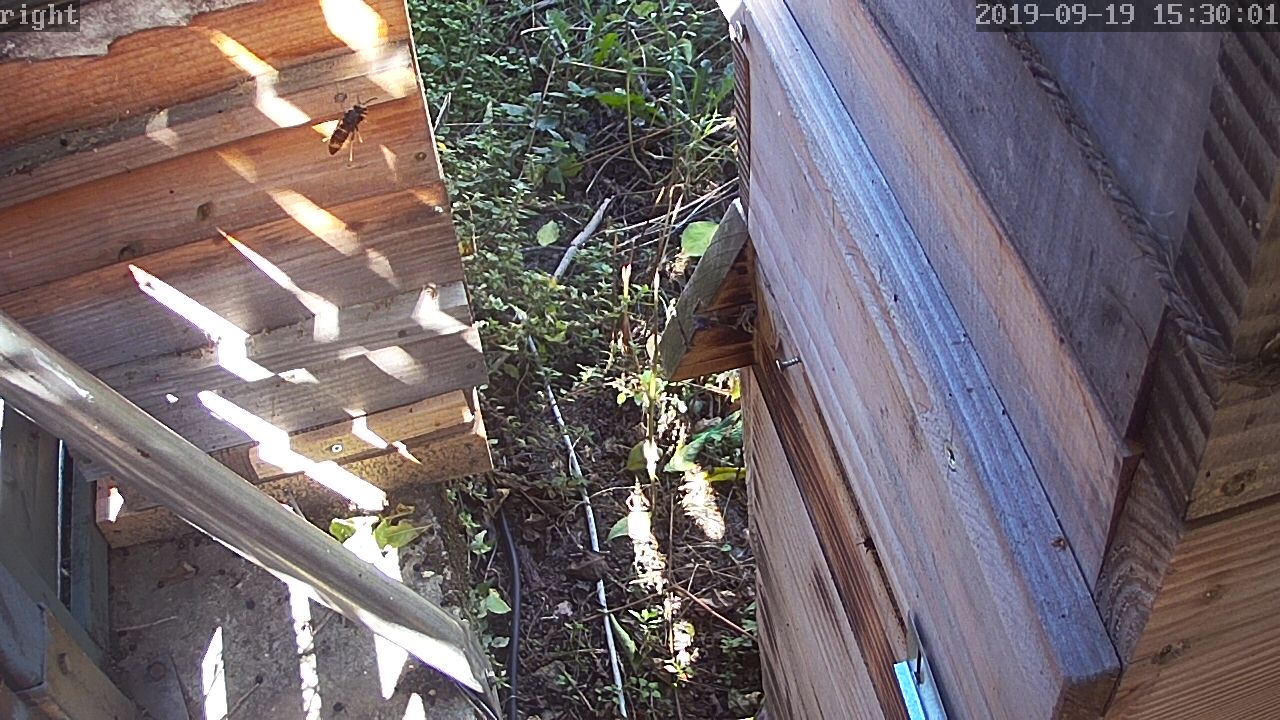hornet: (36, 8, 1244, 720)
